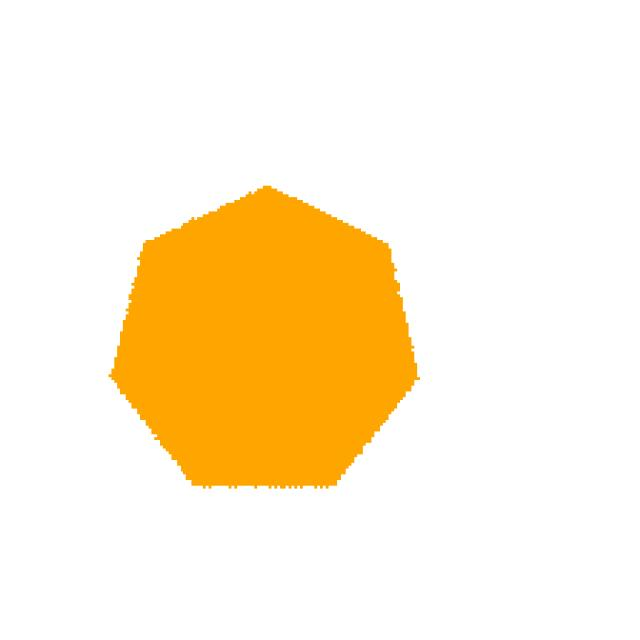Heptagon: (74, 136, 457, 533)
